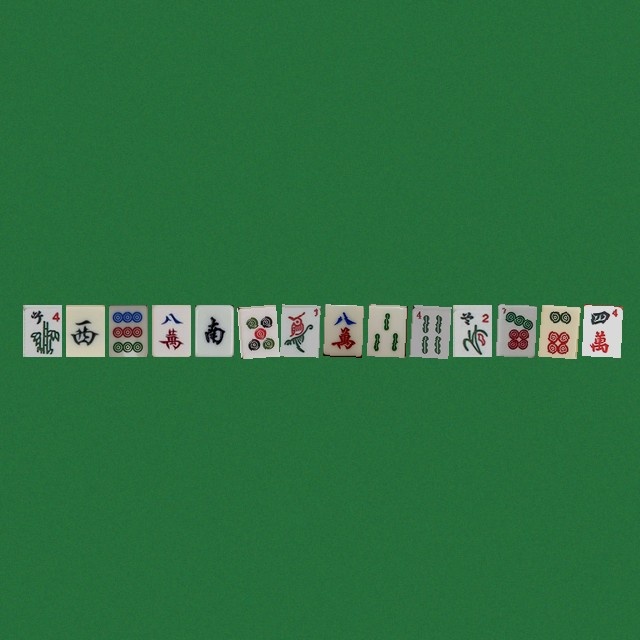tile: (22, 304, 61, 356), (65, 304, 104, 356), (108, 304, 147, 356), (151, 304, 190, 356), (194, 304, 233, 356), (237, 304, 276, 356), (280, 304, 319, 356), (323, 304, 362, 356), (366, 304, 405, 356), (409, 304, 448, 356), (452, 304, 491, 356), (495, 304, 534, 356), (538, 304, 577, 356), (581, 304, 620, 356)
